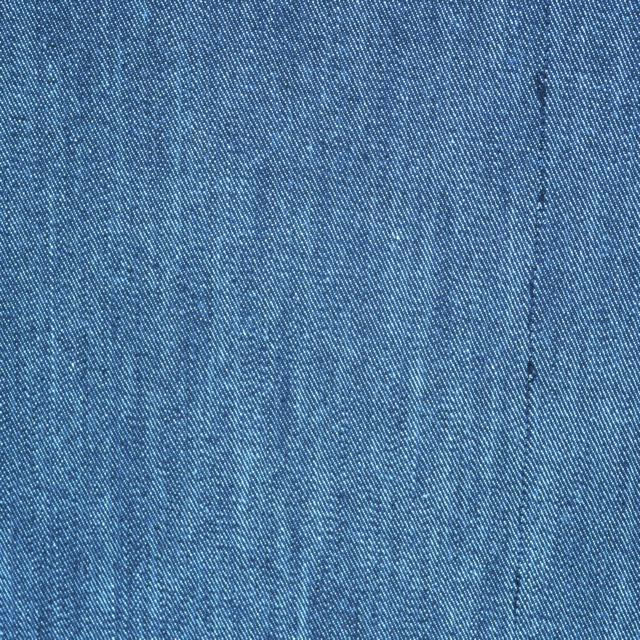Line: (511, 0, 553, 640)
